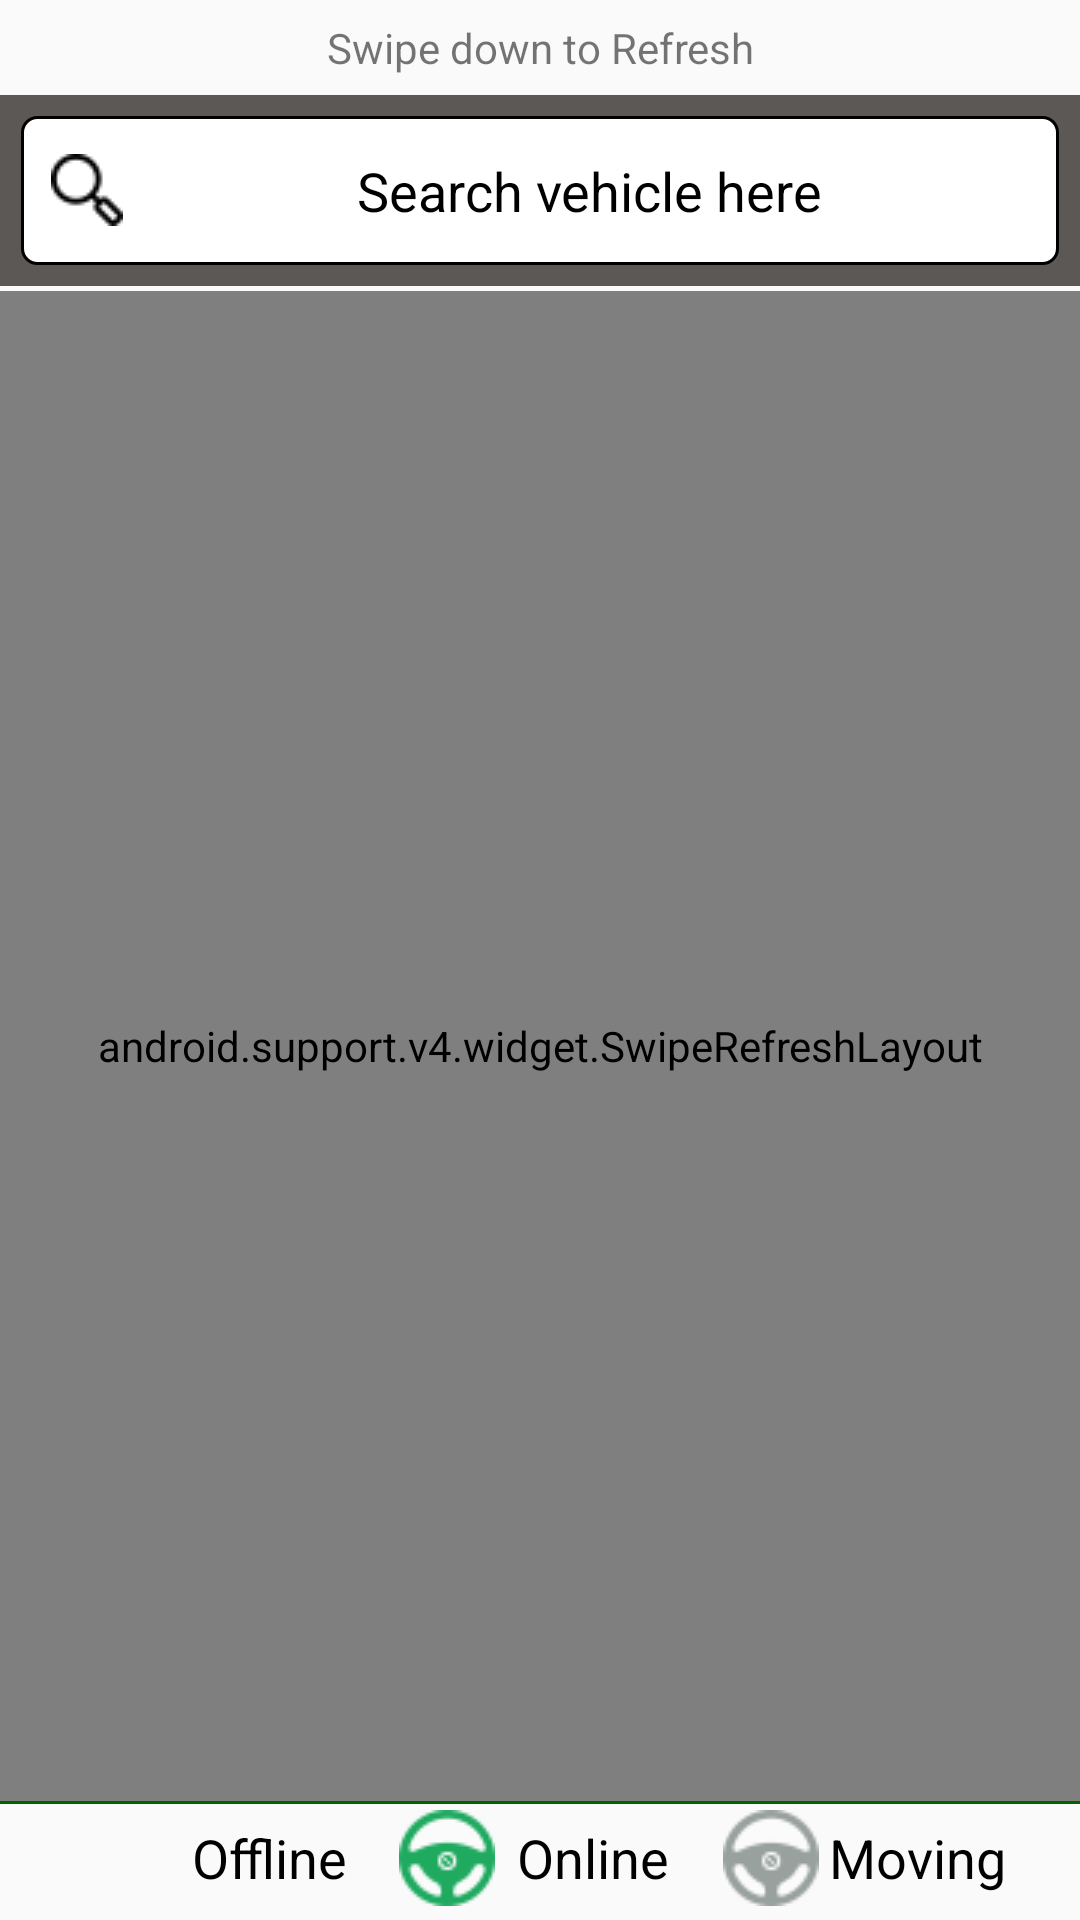

Named icons in this screenshot (1080 x 1920) and their bounding boxes, [left=x1, top=y1, right=x2, bottom=y2]:
greendrive: [left=399, top=1810, right=495, bottom=1906]
greydrive: [left=723, top=1810, right=819, bottom=1906]
